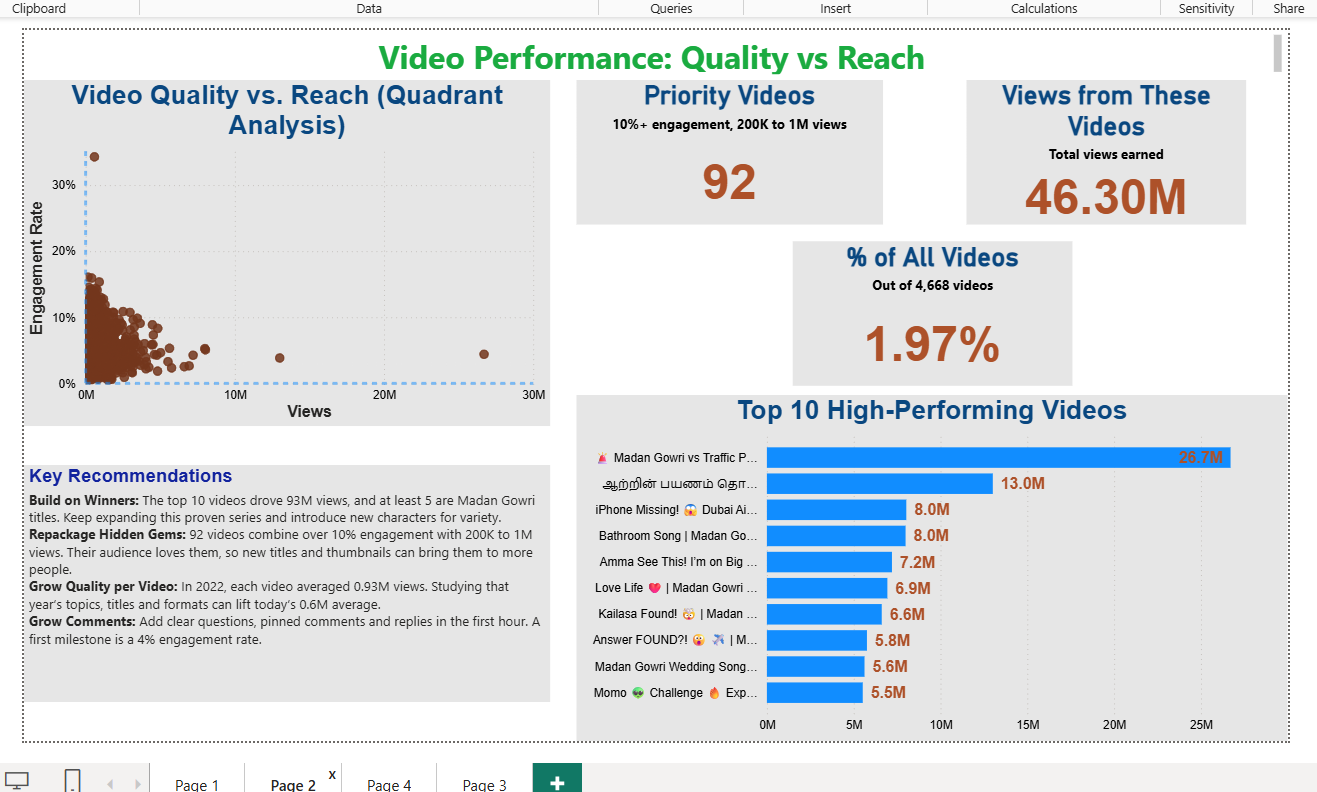

Layout of this report page (visuals, bound fields, positions):
{"tool":"powerbi","page":{"name":"Page 2","canvas":[1280,720],"ordinal":1},"visuals":[{"type":"textbox","box":[0,0,1279.4,75],"z":0},{"type":"clusteredBarChart","title":"Top 10 High-Performing Videos","fields":{"Category":["Query1.video_title"],"Y":["Query1.Total Views"]},"box":[625,113.2,625,379.4],"z":1000},{"type":"scatterChart","title":"Video Quality vs. Reach (Quadrant Analysis)","fields":{"Category":["Query1.video_title"],"Y":["Query1.Overall Engagement Rate"],"X":["Query1.Total Views"]},"box":[55.9,113.2,542.6,379.4],"z":2000},{"type":"textbox","title":"Key Recommendations","box":[57.4,505.9,542.6,204.4],"z":2001}]}

Visuals, with their boxes on the page's 1280x720 design canvas (x1, y1, x2, y2). These are canvas units, not pixel positions in the 1317x792 screenshot, which may show the page scaled, cropped or inside an application window:
textbox: [0,0,1279,75]
"Top 10 High-Performing Videos" clusteredBarChart: [625,113,1250,493]
"Video Quality vs. Reach (Quadrant Analysis)" scatterChart: [56,113,598,493]
"Key Recommendations" textbox: [57,506,600,710]
